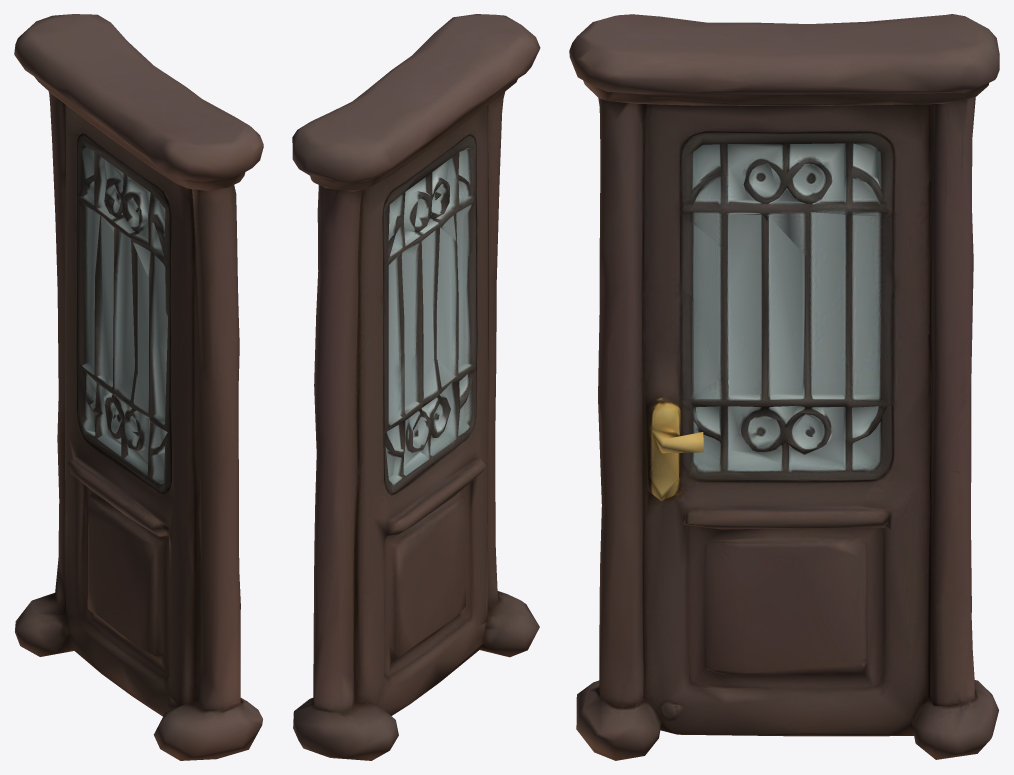
File: door.glb
The picture shows the model from 3 angles, left to right: view 1: azimuth 30°, elevation 25°; view 2: azimuth 150°, elevation 25°; view 3: azimuth 270°, elevation 25°; orthographic projection. The views are drawn at different scales.
Parts seen in each view (by area): view 1: tripo_node_16ef515f-6b71-401e-bb35-df6880c215b1; view 2: tripo_node_16ef515f-6b71-401e-bb35-df6880c215b1; view 3: tripo_node_16ef515f-6b71-401e-bb35-df6880c215b1.
Boxes of the visible parts, x1,y1,x2,y2 form: tripo_node_16ef515f-6b71-401e-bb35-df6880c215b1: [14, 14, 263, 760]; tripo_node_16ef515f-6b71-401e-bb35-df6880c215b1: [292, 14, 540, 760]; tripo_node_16ef515f-6b71-401e-bb35-df6880c215b1: [569, 14, 999, 760].
Size of the model in its own units: 0.1648 by 1 by 0.5522.
1 material, 1 textured.
